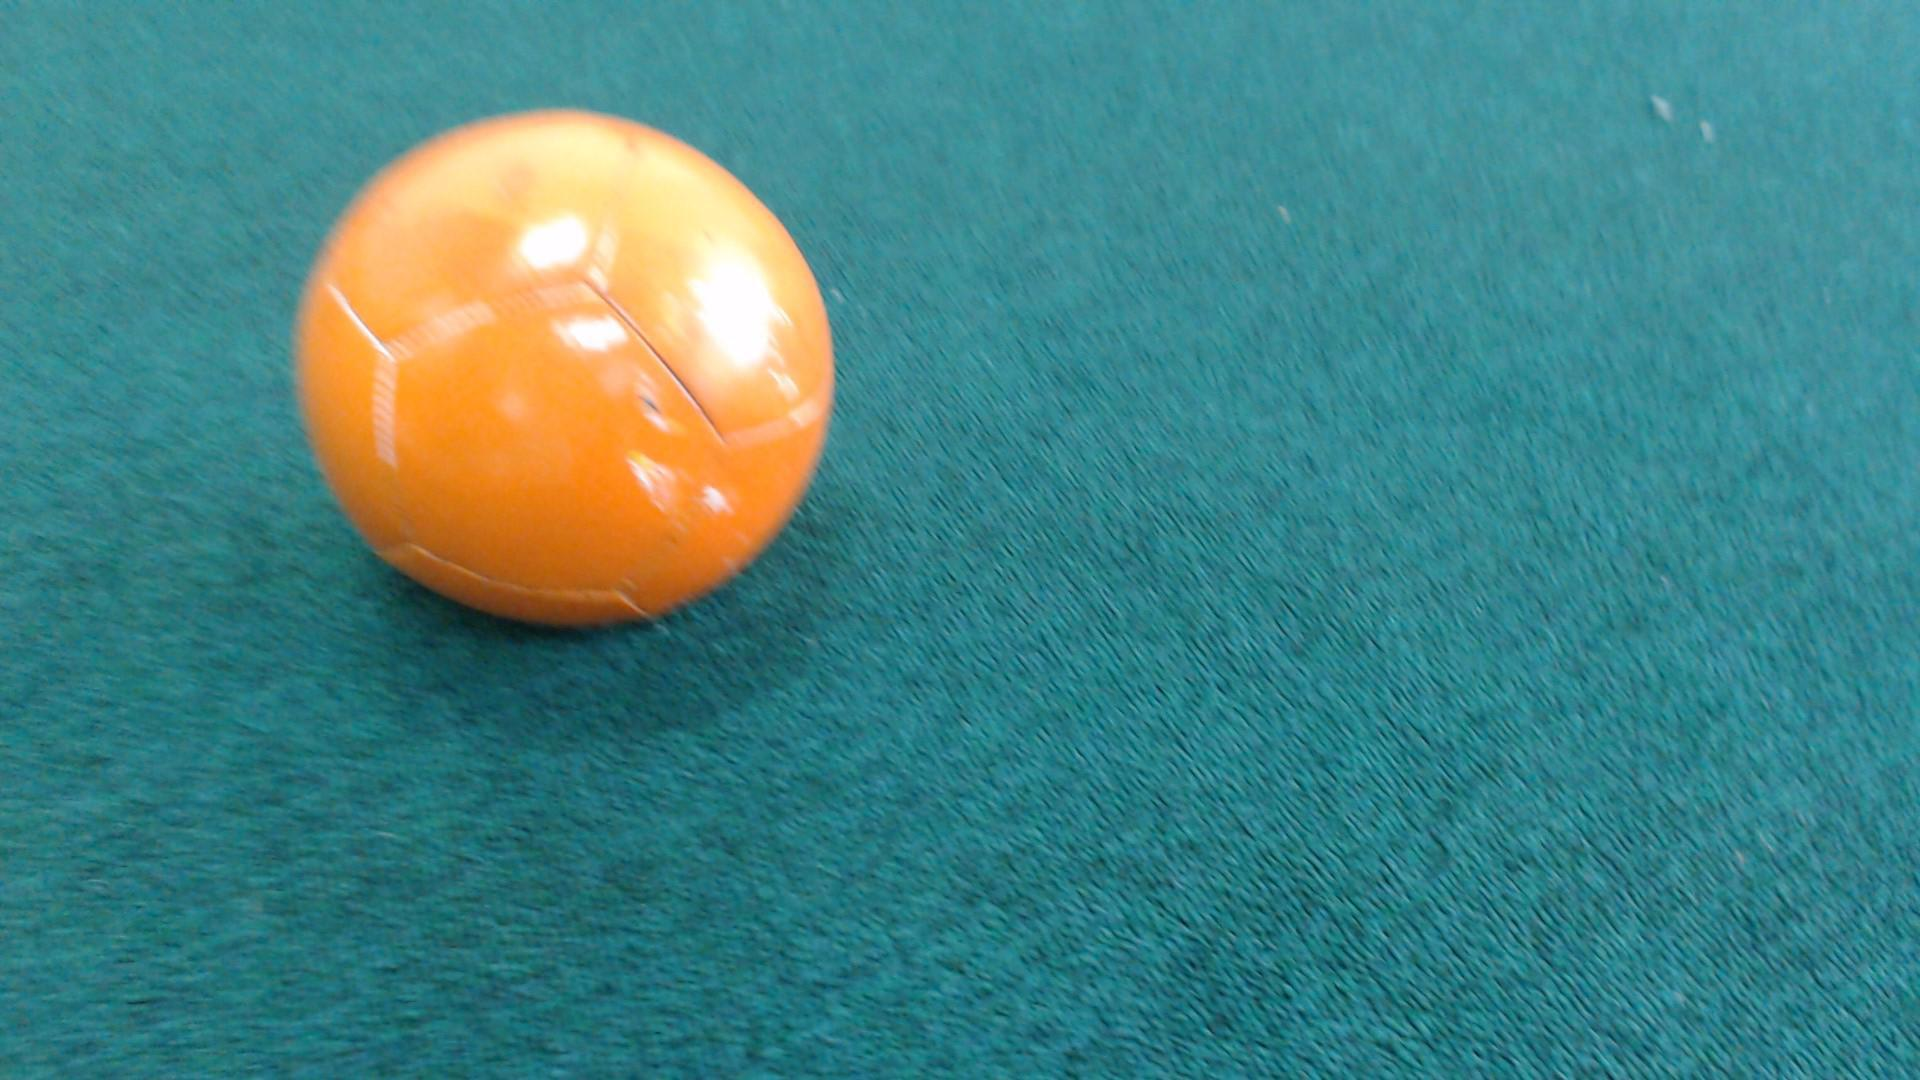bola: (248, 88, 866, 630)
